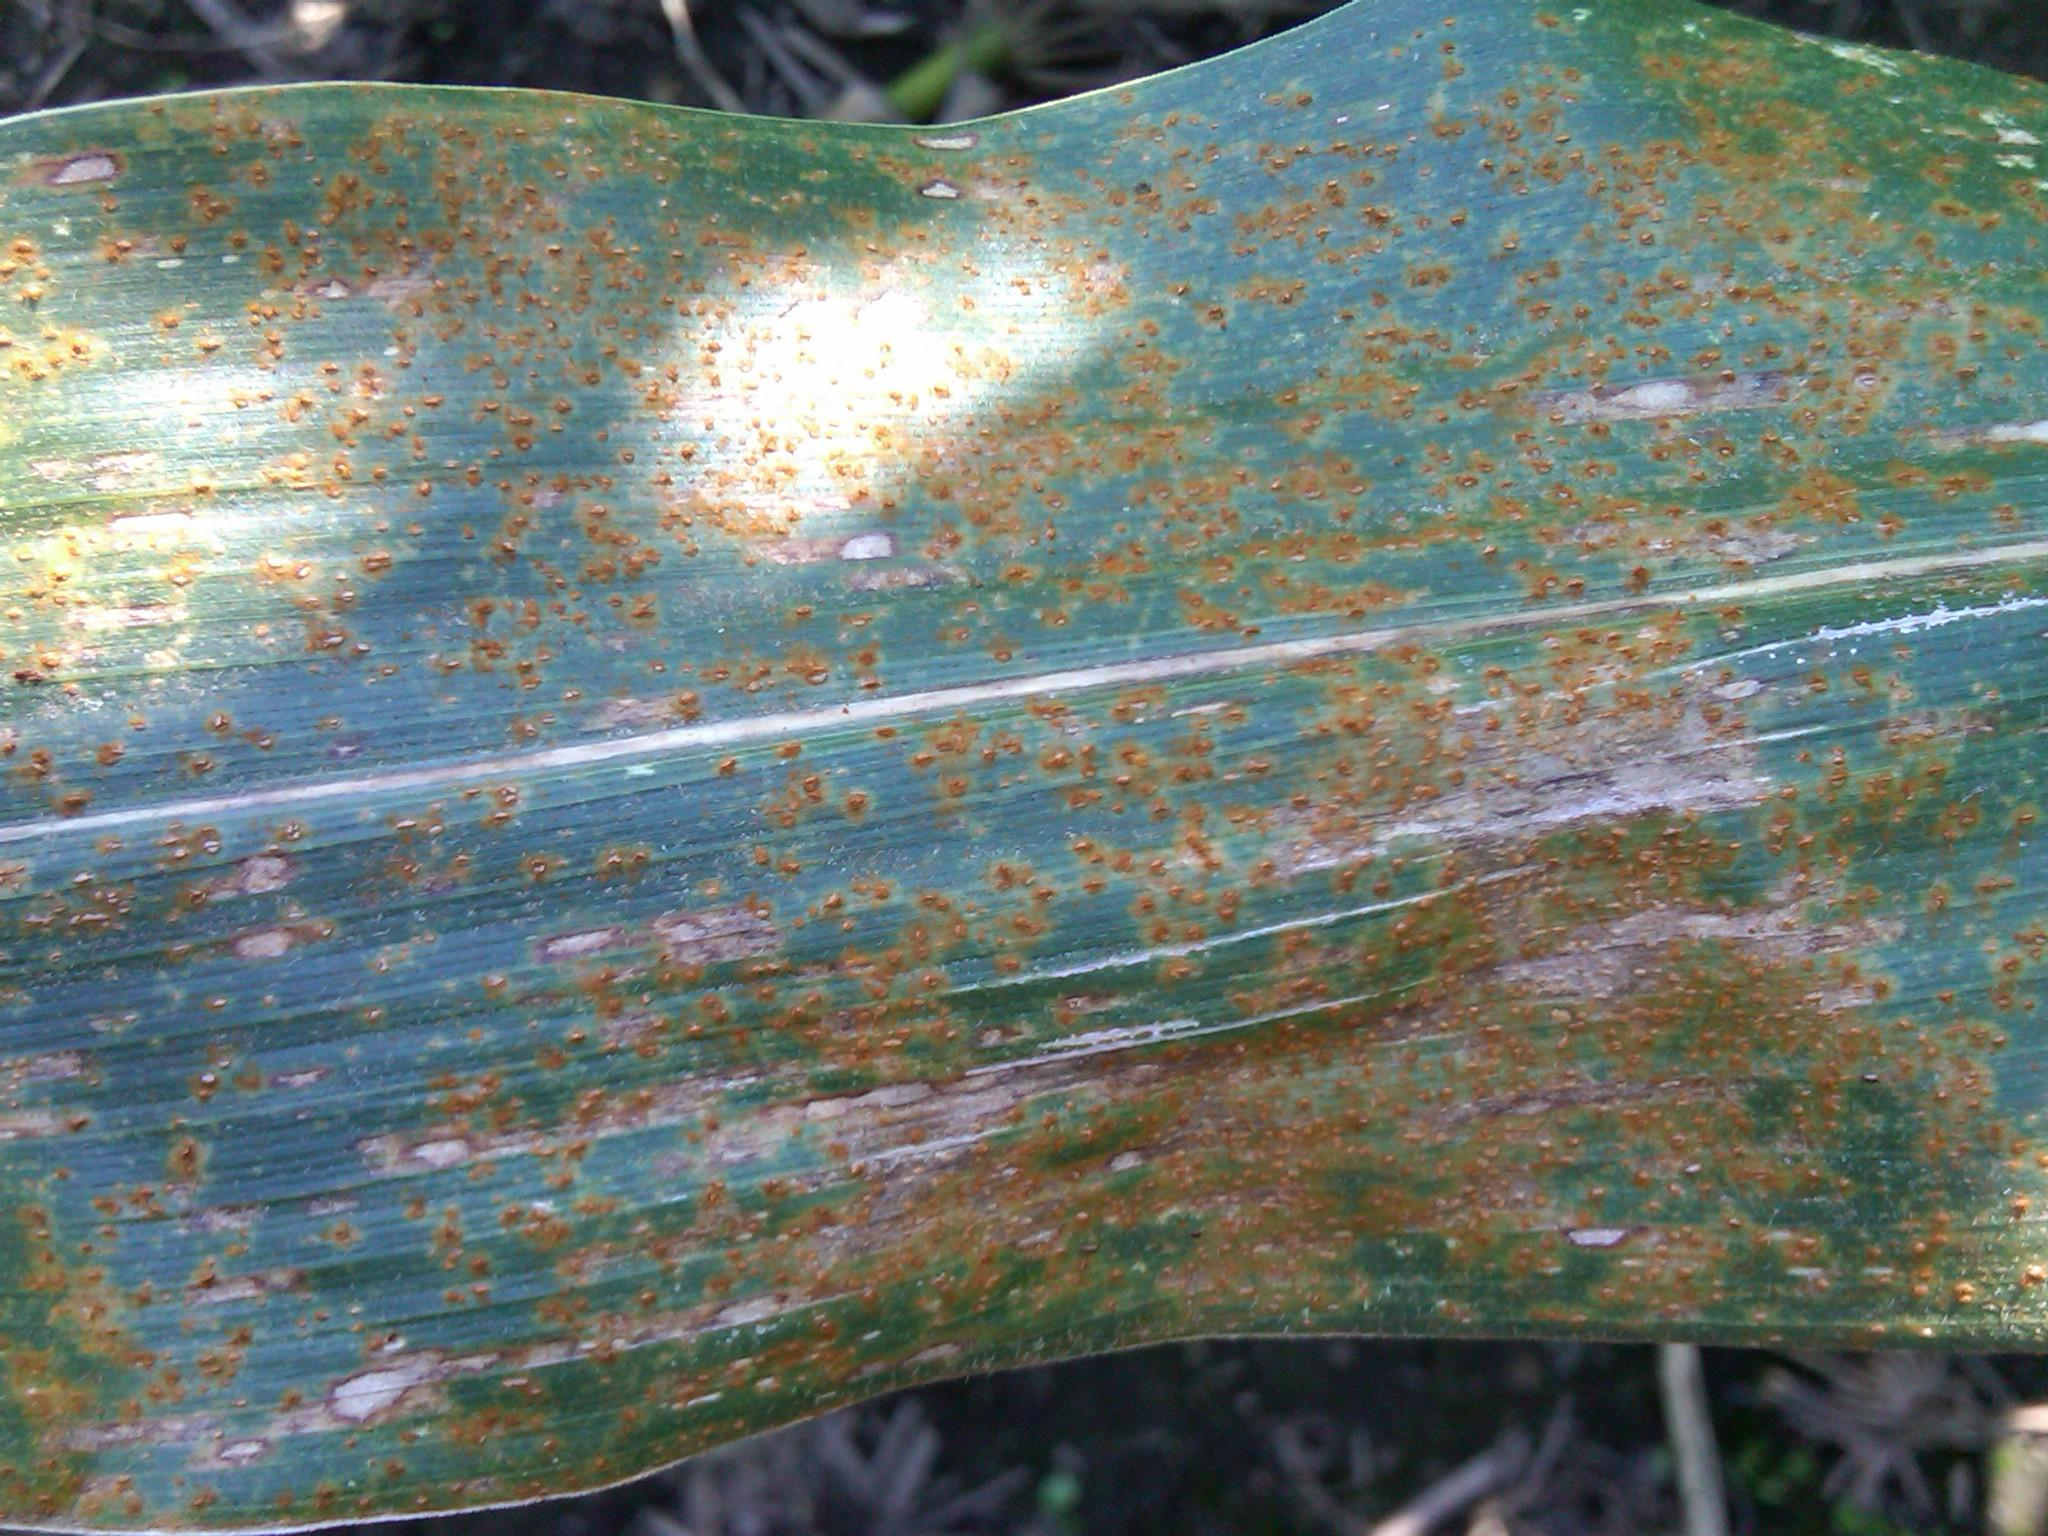Corn rust leaf: (15, 23, 2048, 1521)
